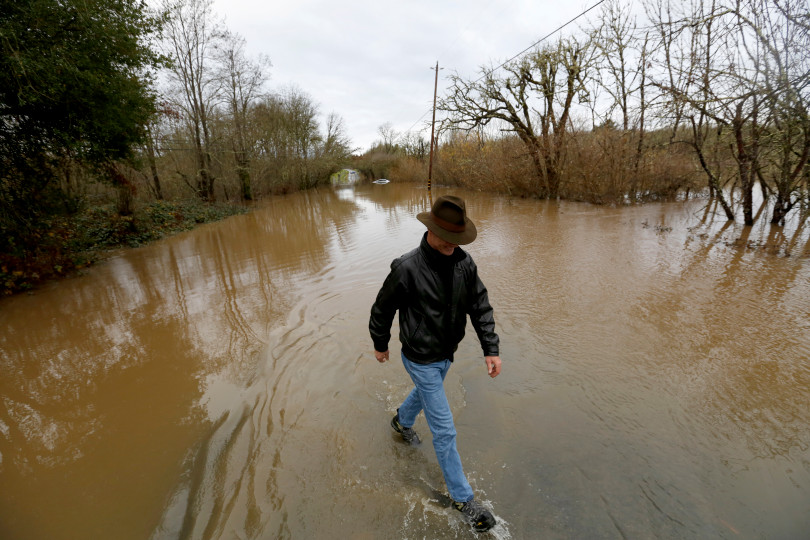person: (369, 170, 530, 539)
tree: (426, 37, 597, 207), (156, 1, 226, 214), (201, 29, 266, 200), (581, 6, 643, 140)
water: (491, 198, 810, 539), (1, 222, 264, 532), (253, 187, 352, 532), (353, 186, 407, 251)
